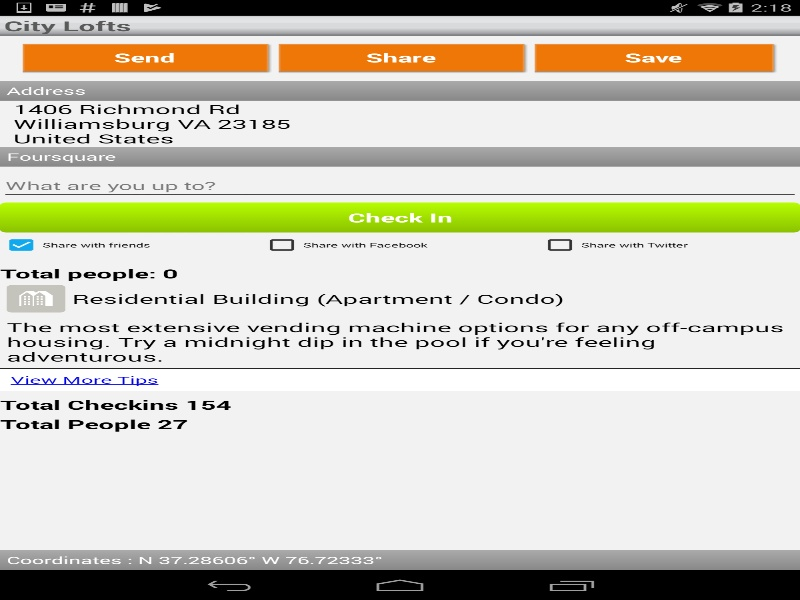Button: (0, 202, 800, 232), (22, 43, 272, 73), (278, 43, 528, 73), (534, 43, 777, 73)
Input: (0, 171, 800, 200)
